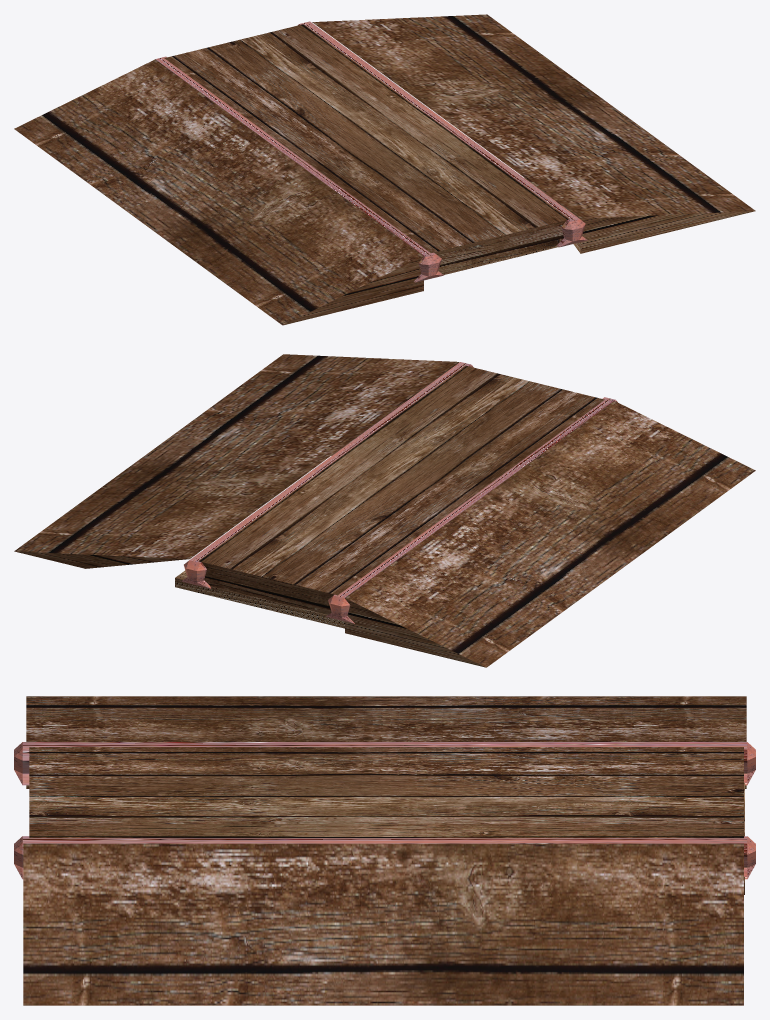
File: traintracks3.fbx
3 views of the same model, one above another, from view 1: azimuth 30°, elevation 25°; view 2: azimuth 150°, elevation 25°; view 3: azimuth 270°, elevation 25° (orthographic). The views are drawn at different scales.
Parts seen in each view (by area): view 1: pCube15, pCube17, pCube16, pCube1, pCube2; view 2: pCube15, pCube16, pCube17, pCube1, pCube2, pCube13; view 3: pCube17, pCube16, pCube15, pCube2, pCube1.
Part boxes in pixels (box(x1,y1,x2,y2)): pCube15: box(14, 59, 423, 325); pCube17: box(312, 14, 755, 253); pCube16: box(164, 24, 569, 273); pCube1: box(155, 56, 443, 282); pCube2: box(298, 21, 587, 247); pCube15: box(345, 401, 755, 667); pCube16: box(198, 365, 604, 614); pCube17: box(14, 354, 459, 568); pCube1: box(326, 397, 617, 623); pCube2: box(181, 362, 473, 588); pCube13: box(175, 570, 344, 628); pCube17: box(23, 843, 743, 1005); pCube16: box(29, 747, 743, 838); pCube15: box(26, 696, 746, 788); pCube2: box(14, 836, 755, 879); pCube1: box(14, 742, 755, 785).
Bounding box in the file's own units: 21.46 × 1.52 × 21.78.
2 materials, 2 textured.
